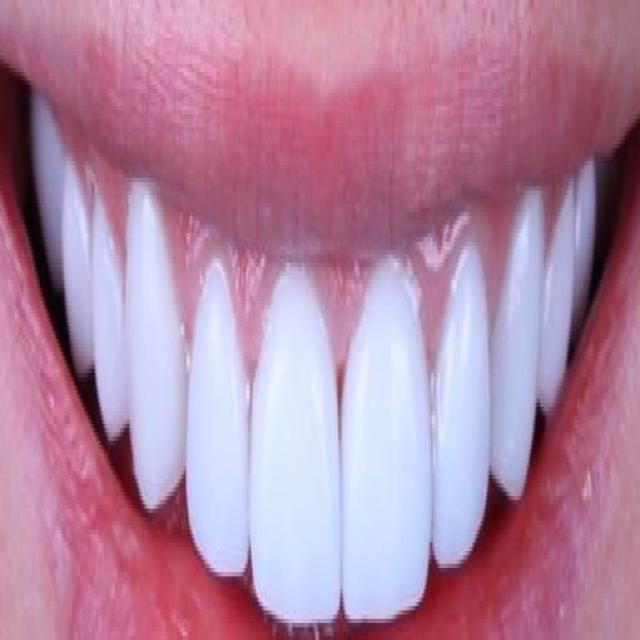1st Molar: (28, 97, 68, 297)
1st Premolar: (536, 183, 577, 416), (89, 203, 128, 445)
2nd Premolar: (61, 159, 92, 376), (573, 161, 600, 331)
Canine: (125, 177, 188, 513), (491, 191, 542, 500)
Central Incisor: (340, 252, 432, 619), (249, 263, 342, 623)
Lateral Incisor: (187, 259, 251, 576), (431, 246, 492, 568)
